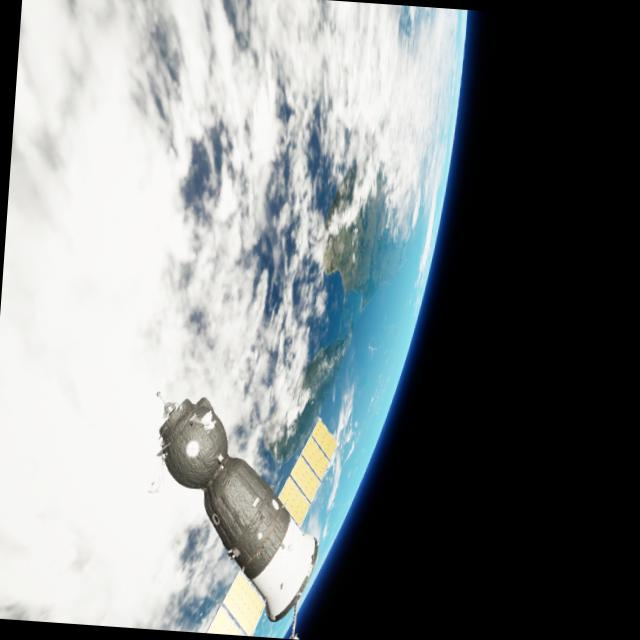Satellites revolving around earth: (0, 0, 469, 640), (140, 390, 333, 626)
